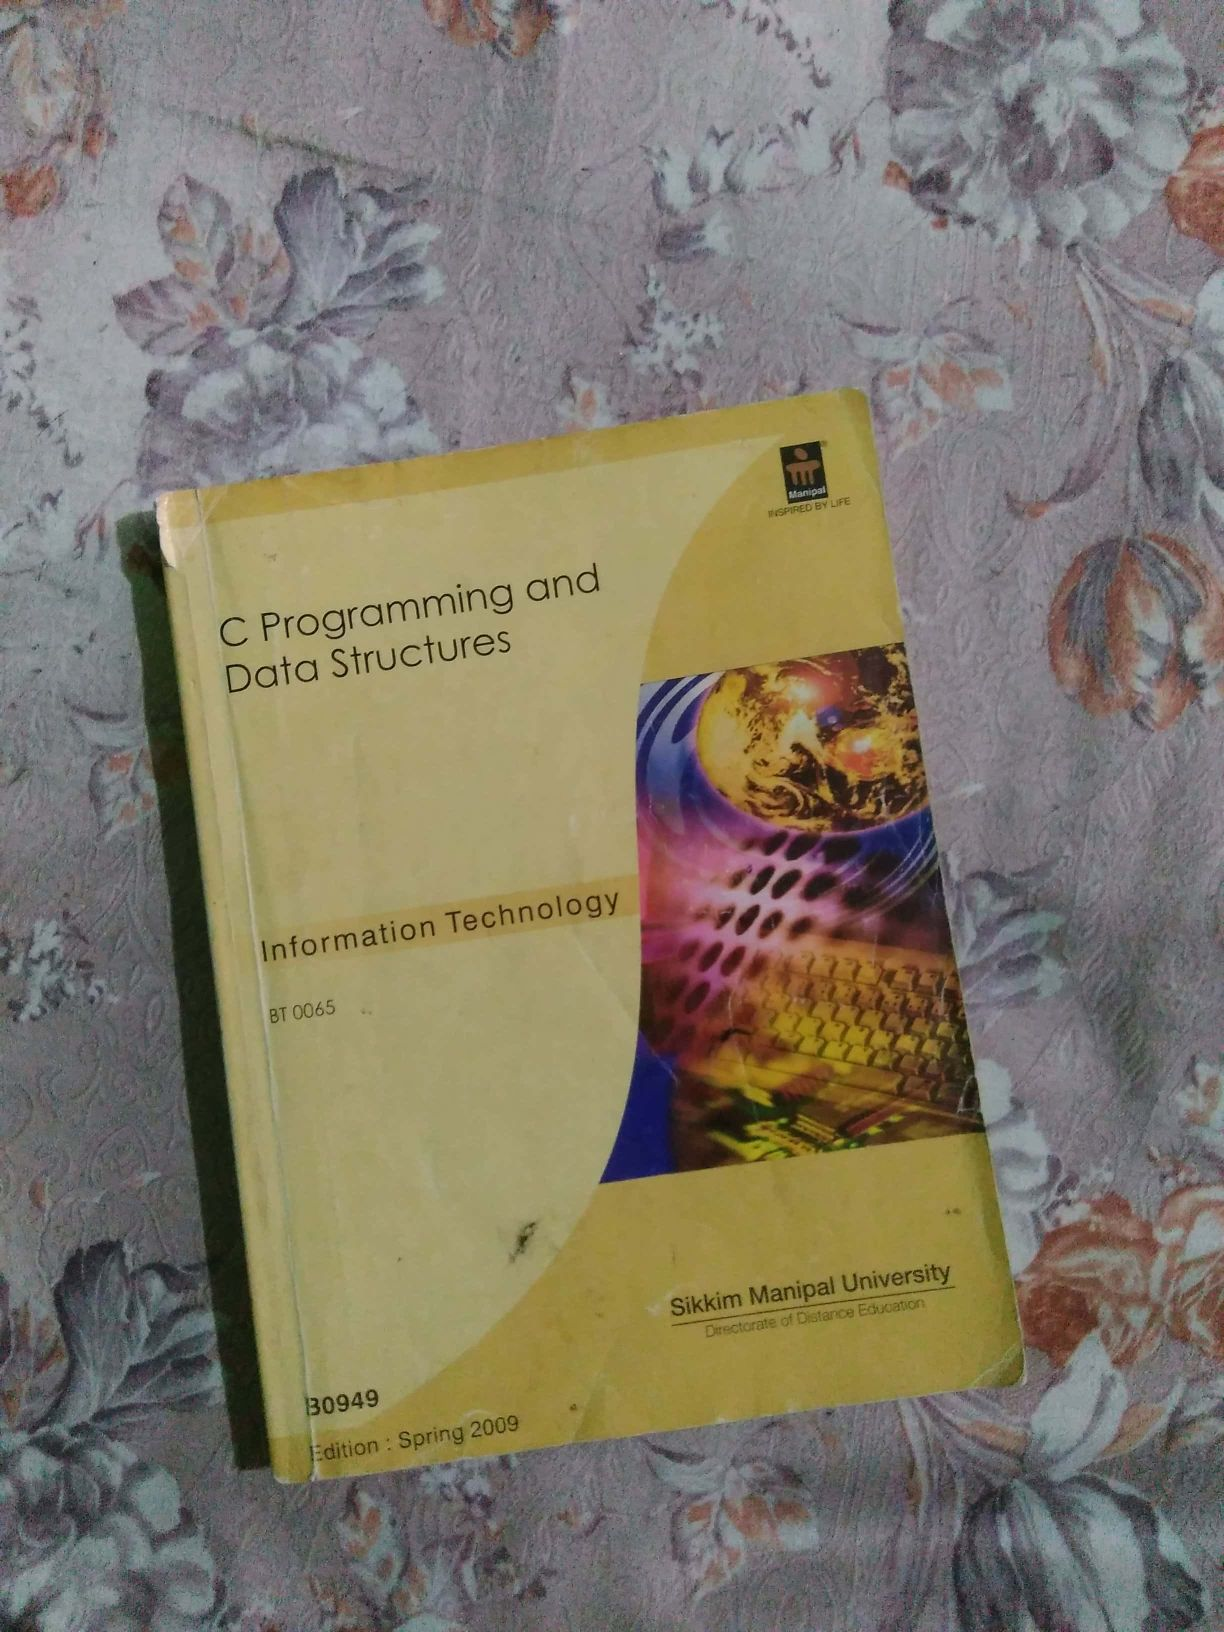clang: (112, 389, 1071, 1497)
